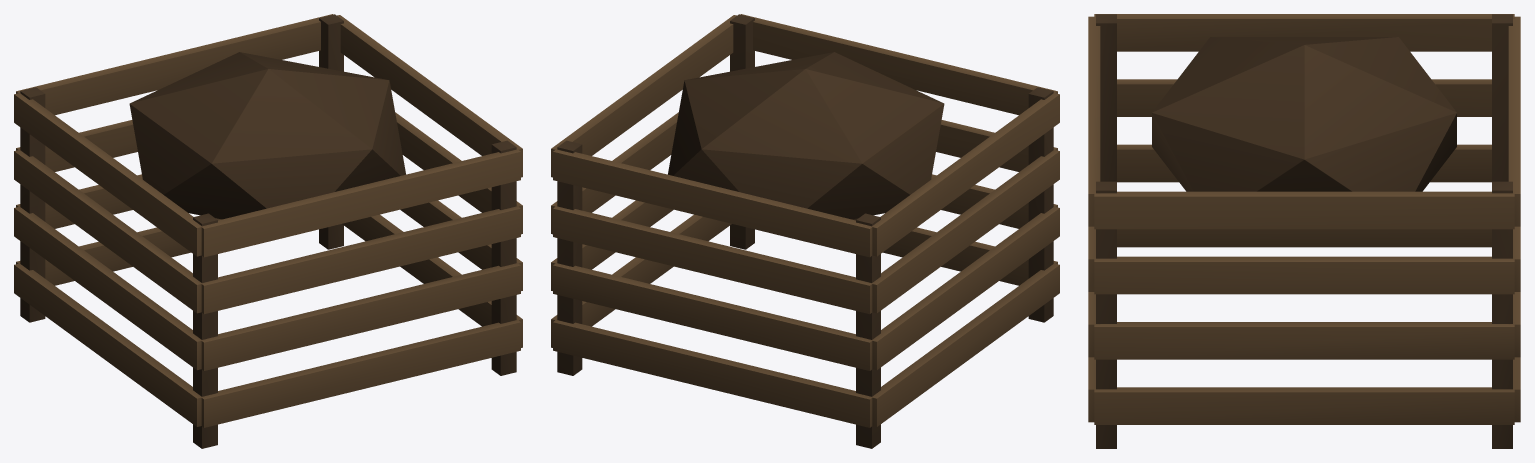
File: struct_compost_bin.glb
3 renders of one model, left to right at view 1: azimuth 30°, elevation 25°; view 2: azimuth 150°, elevation 25°; view 3: azimuth 270°, elevation 25°, orthographic. The views are drawn at different scales.
Visible parts, largest first — view 1: slats, mound, posts; view 2: slats, mound, posts; view 3: slats, mound, posts.
Boxes of the visible parts, x1,y1,x2,y2 form: slats: (14, 14, 522, 427); mound: (129, 52, 405, 219); posts: (20, 14, 516, 448); slats: (551, 14, 1059, 427); mound: (668, 52, 944, 219); posts: (557, 14, 1053, 448); slats: (1088, 14, 1520, 424); mound: (1152, 37, 1456, 191); posts: (1096, 14, 1512, 448).
Size of the model in its own units: 1.44 by 1.16 by 1.44.
